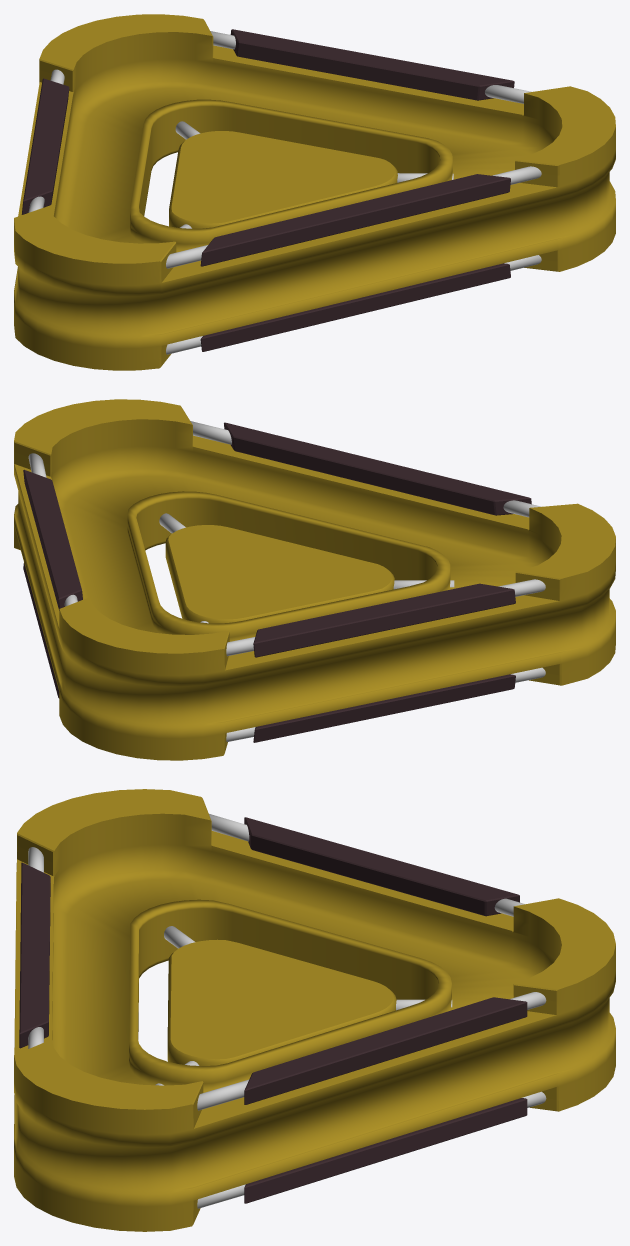
File: boxgold02.fbx
3 renders of one model, top to bottom at view 1: azimuth 30°, elevation 25°; view 2: azimuth 150°, elevation 25°; view 3: azimuth 270°, elevation 25°, orthographic. The views are drawn at different scales.
Visible parts, largest first — view 1: Cube.001; view 2: Cube.001; view 3: Cube.001.
Part boxes in pixels (x1,y1,x2,y2): Cube.001: (14, 14, 615, 370); Cube.001: (14, 399, 615, 760); Cube.001: (14, 789, 615, 1231).
Size of the model in its own units: 580 by 103 by 460.
